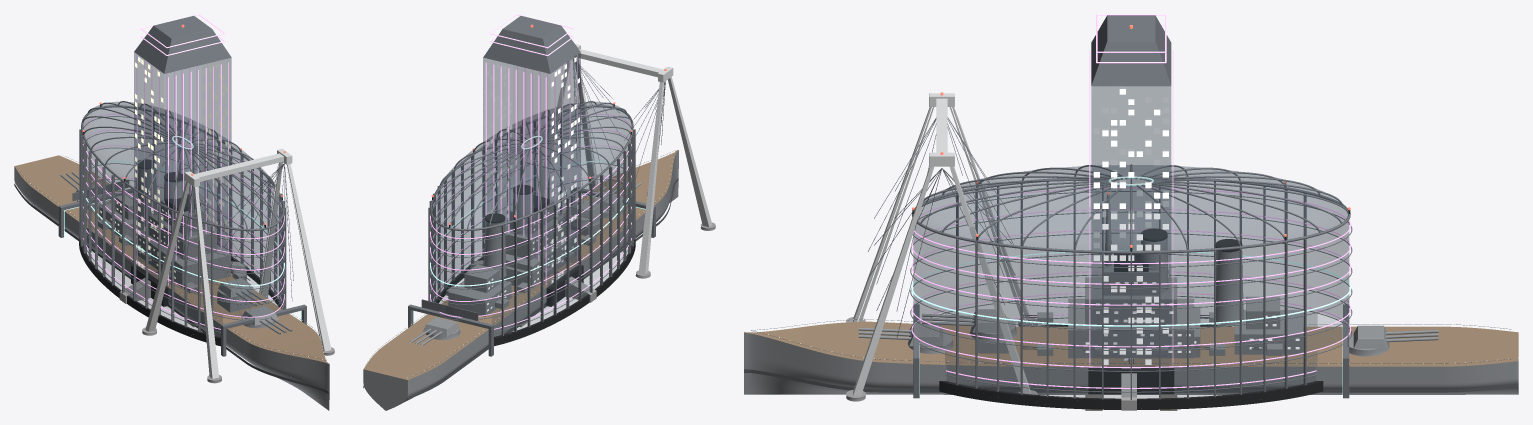
Rendered from lastcall_kit.glb.
The picture shows the model from 3 angles, left to right: view 1: azimuth 30°, elevation 25°; view 2: azimuth 150°, elevation 25°; view 3: azimuth 270°, elevation 25°; orthographic projection. The views are drawn at different scales.
Parts seen in each view (by area): view 1: HaloTower_GLASS, HaloTower_STEEL, CasinoTower_GLASS, Battleship_HULL, Battleship_TEAK, RingPylon_WHITE, CasinoTower_NEONA, CasinoTower_STEEL, HaloTower_LEDA, CasinoTower_WINLIT, RingPylon_STEEL, HaloTower_DARK (+6 smaller); view 2: HaloTower_GLASS, HaloTower_STEEL, Battleship_HULL, CasinoTower_GLASS, Battleship_TEAK, RingPylon_WHITE, CasinoTower_NEONA, CasinoTower_STEEL, HaloTower_LEDA, HaloTower_DARK, CasinoTower_WINLIT, RingPylon_STEEL (+6 smaller); view 3: HaloTower_GLASS, Battleship_HULL, HaloTower_STEEL, CasinoTower_GLASS, Battleship_TEAK, RingPylon_WHITE, HaloTower_LEDA, CasinoTower_STEEL, HaloTower_DARK, CasinoTower_WINLIT, Battleship_HULLDARK, RingPylon_STEEL (+5 smaller).
Part boxes in pixels (bbox=[...]): HaloTower_GLASS: bbox=[82, 102, 283, 336]; HaloTower_STEEL: bbox=[58, 101, 306, 356]; CasinoTower_GLASS: bbox=[134, 52, 231, 286]; Battleship_HULL: bbox=[14, 159, 329, 410]; Battleship_TEAK: bbox=[14, 155, 329, 363]; RingPylon_WHITE: bbox=[145, 148, 331, 378]; CasinoTower_NEONA: bbox=[136, 14, 228, 285]; CasinoTower_STEEL: bbox=[134, 15, 231, 73]; HaloTower_LEDA: bbox=[82, 113, 284, 329]; CasinoTower_WINLIT: bbox=[135, 57, 230, 269]; RingPylon_STEEL: bbox=[183, 163, 293, 325]; HaloTower_DARK: bbox=[79, 104, 282, 346]; HaloTower_GLASS: bbox=[431, 102, 632, 336]; HaloTower_STEEL: bbox=[408, 101, 655, 356]; Battleship_HULL: bbox=[363, 147, 678, 410]; CasinoTower_GLASS: bbox=[483, 52, 580, 287]; Battleship_TEAK: bbox=[364, 150, 678, 379]; RingPylon_WHITE: bbox=[543, 44, 712, 274]; CasinoTower_NEONA: bbox=[485, 14, 577, 285]; CasinoTower_STEEL: bbox=[483, 16, 580, 73]; HaloTower_LEDA: bbox=[430, 113, 631, 329]; HaloTower_DARK: bbox=[432, 104, 635, 346]; CasinoTower_WINLIT: bbox=[484, 57, 579, 283]; RingPylon_STEEL: bbox=[573, 58, 665, 209]; HaloTower_GLASS: bbox=[913, 165, 1348, 398]; Battleship_HULL: bbox=[744, 195, 1518, 394]; HaloTower_STEEL: bbox=[910, 164, 1352, 399]; CasinoTower_GLASS: bbox=[1091, 86, 1170, 369]; Battleship_TEAK: bbox=[744, 321, 1518, 366]; RingPylon_WHITE: bbox=[853, 93, 1030, 395]; HaloTower_LEDA: bbox=[911, 187, 1351, 388]; CasinoTower_STEEL: bbox=[1091, 15, 1171, 86]; HaloTower_DARK: bbox=[912, 183, 1350, 409]; CasinoTower_WINLIT: bbox=[1093, 86, 1168, 364]; Battleship_HULLDARK: bbox=[744, 314, 1518, 392]; RingPylon_STEEL: bbox=[868, 117, 1015, 338].
Bounding box in the file's own units: 74.46 × 147 × 270.
